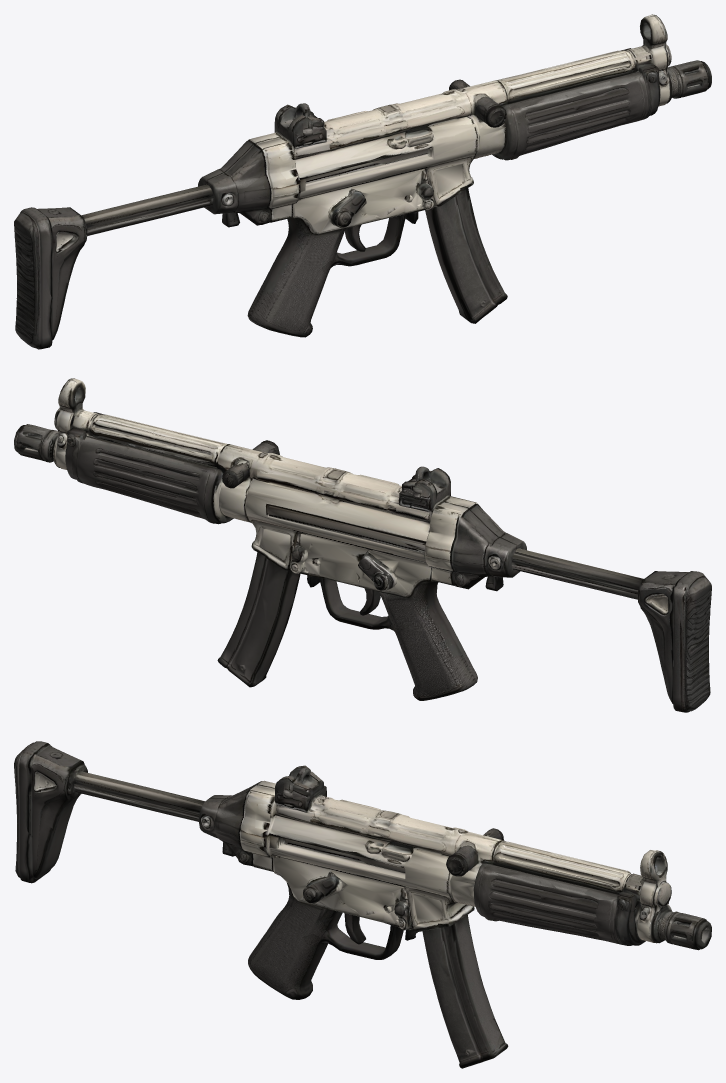
The model's file is smg.glb.
The picture shows the model from 3 angles, top to bottom: view 1: azimuth 30°, elevation 25°; view 2: azimuth 150°, elevation 25°; view 3: azimuth 330°, elevation 25°; orthographic projection.
Visible parts, largest first — view 1: tripo_node_896c3f72-9d70-418b-bd3c-69101aa368e2; view 2: tripo_node_896c3f72-9d70-418b-bd3c-69101aa368e2; view 3: tripo_node_896c3f72-9d70-418b-bd3c-69101aa368e2.
Boxes of the visible parts, x1=… form: tripo_node_896c3f72-9d70-418b-bd3c-69101aa368e2: x1=14, y1=14, x2=711, y2=349; tripo_node_896c3f72-9d70-418b-bd3c-69101aa368e2: x1=14, y1=378, x2=711, y2=712; tripo_node_896c3f72-9d70-418b-bd3c-69101aa368e2: x1=14, y1=741, x2=711, y2=1068.
Size of the model in its own units: 0.9834 by 0.3542 by 0.1059.
1 material, 1 textured.
